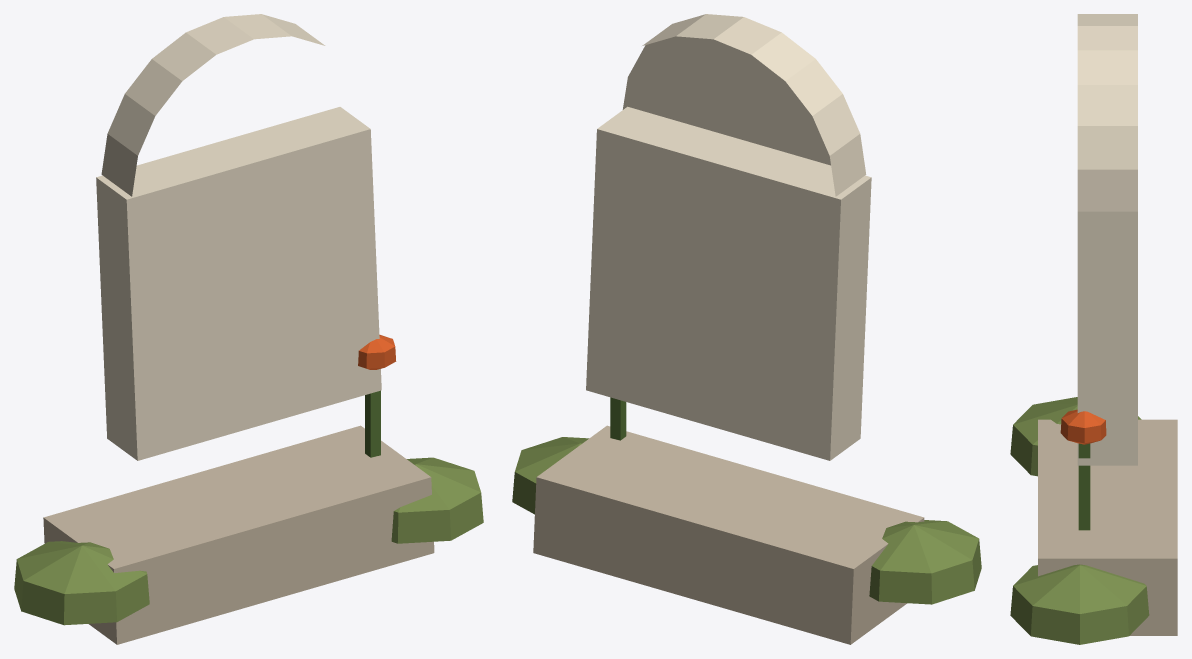
Rendered from Grave.glb.
The picture shows the model from 3 angles, left to right: view 1: azimuth 30°, elevation 25°; view 2: azimuth 150°, elevation 25°; view 3: azimuth 270°, elevation 25°; orthographic projection.
Parts seen in each view (by area): view 1: grave_stone, grave_stone_d, grave_grass (×2), grave_stem, grave_terra; view 2: grave_stone, grave_stone_d, grave_grass (×2), grave_stem; view 3: grave_stone, grave_stone_d, grave_grass (×2), grave_terra, grave_stem.
Part boxes in pixels (x1,y1,x2,y2): grave_stone: [96, 14, 381, 460]; grave_stone_d: [43, 425, 434, 644]; grave_grass (×2): [14, 457, 483, 625]; grave_stem: [365, 390, 380, 457]; grave_terra: [358, 334, 396, 369]; grave_stone: [586, 14, 871, 460]; grave_stone_d: [533, 425, 924, 644]; grave_grass (×2): [512, 437, 981, 604]; grave_stem: [610, 397, 626, 440]; grave_stone: [1077, 14, 1137, 465]; grave_stone_d: [1038, 419, 1177, 635]; grave_grass (×2): [1010, 397, 1149, 644]; grave_terra: [1060, 409, 1106, 444]; grave_stem: [1078, 443, 1090, 530].
Size of the model in its own units: 1.12 by 1.3 by 0.3593.
